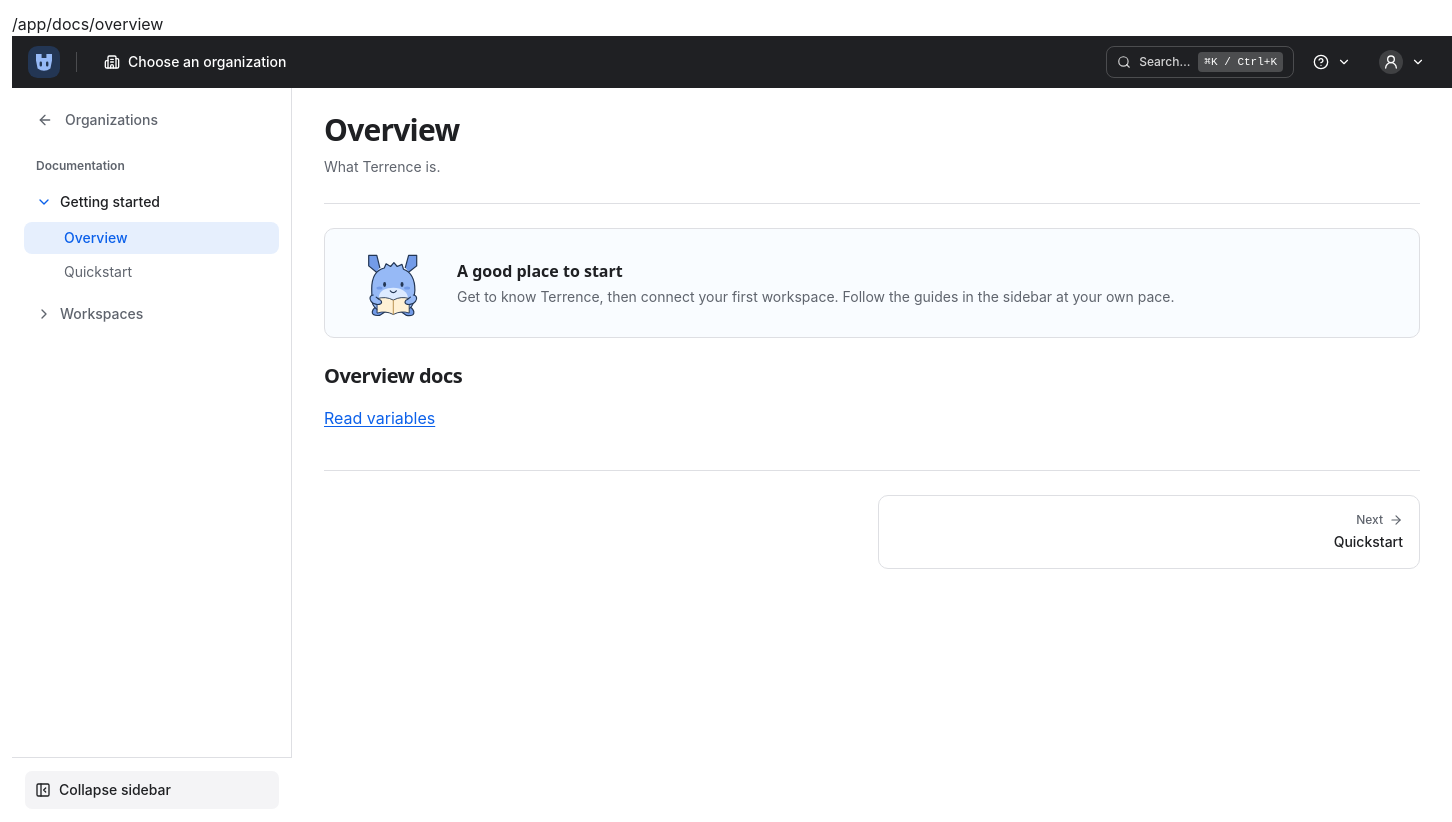
routes relative doc-to-doc links through the SPA
Click the link "Read variables" at (380, 418), box [324, 408, 435, 428]
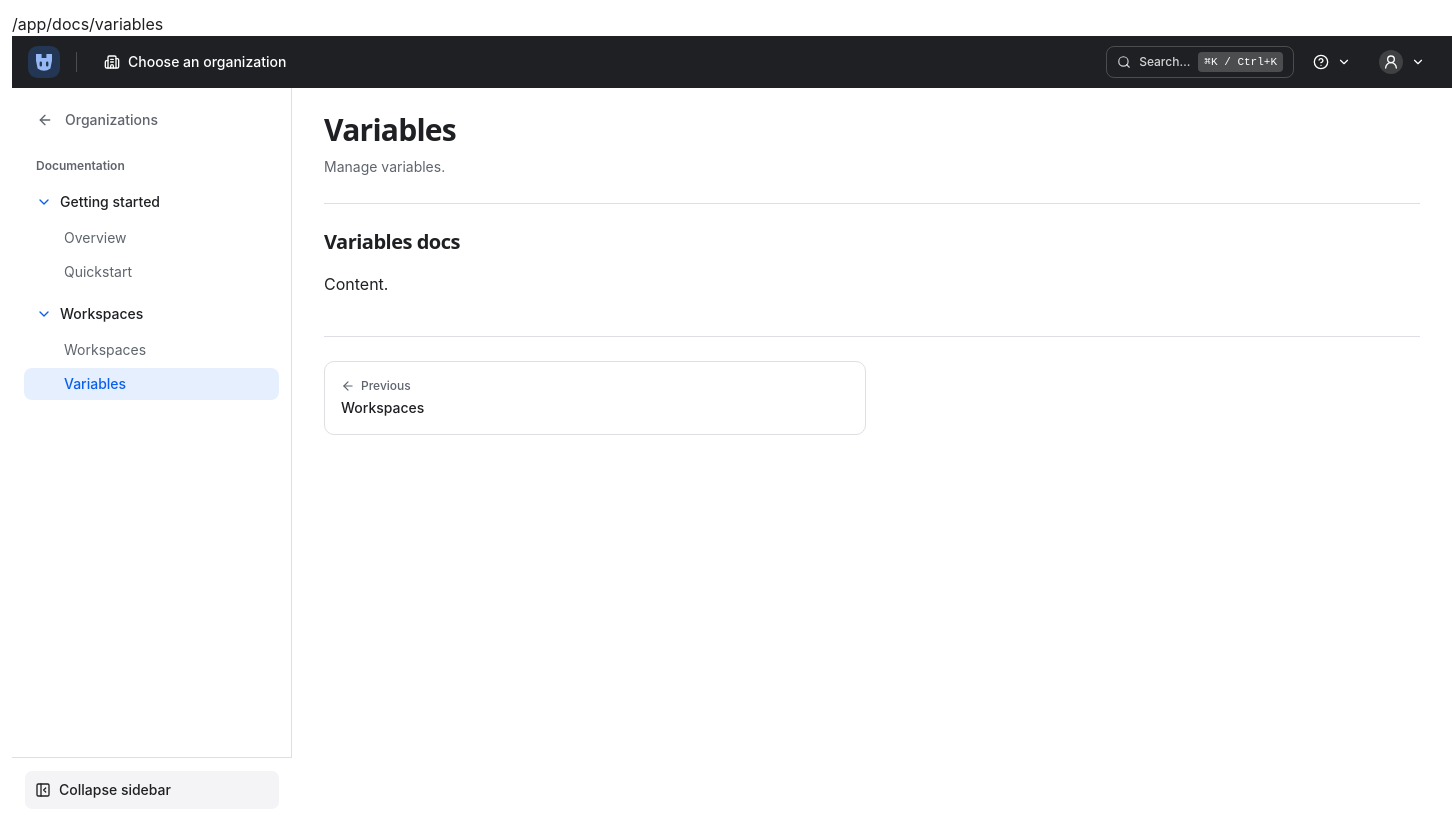
Expected: the heading "Variables" is shown, [324, 112, 456, 148]
Expected: the text named "Current location" reads "/app/docs/variables", [12, 14, 163, 34]
